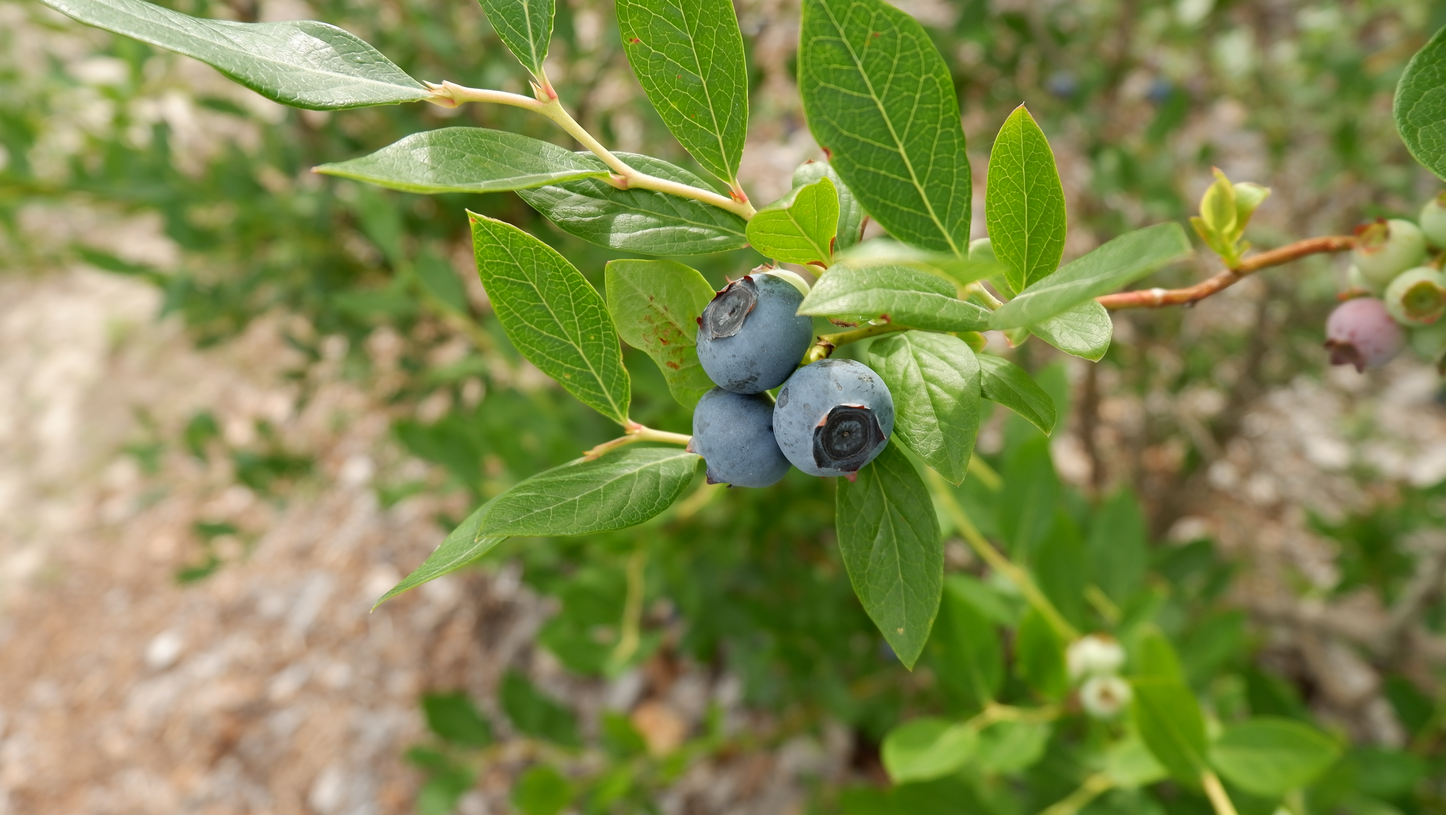Immature: (747, 258, 812, 296)
Mature: (772, 358, 895, 483), (695, 272, 814, 394), (685, 386, 792, 489)
